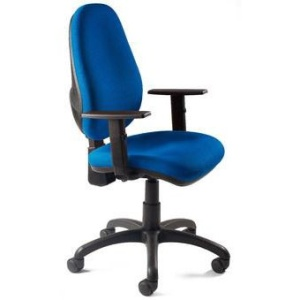chair: (68, 3, 231, 297)
